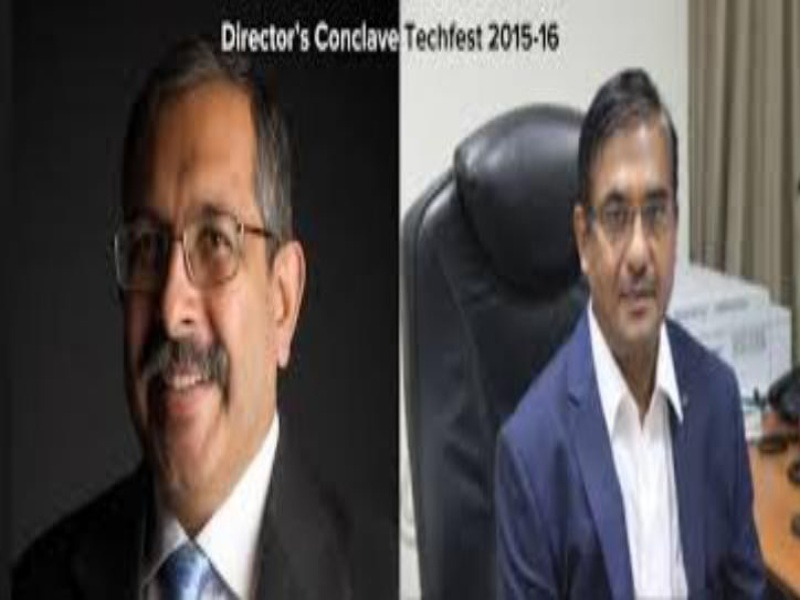TsisyArotava: (91, 93, 313, 486), (553, 73, 716, 360)
